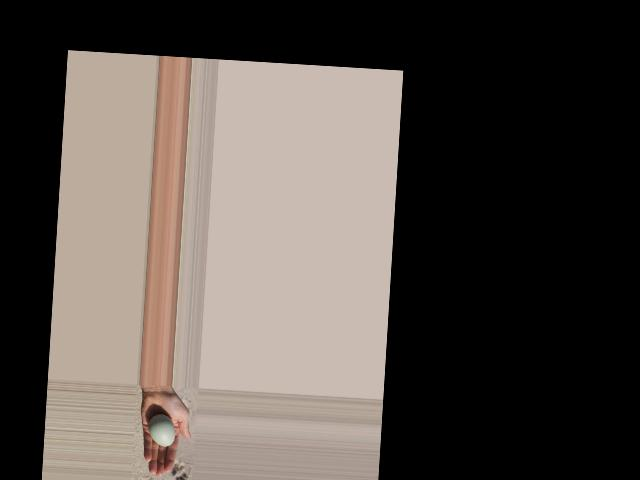egg: (147, 414, 175, 446)
